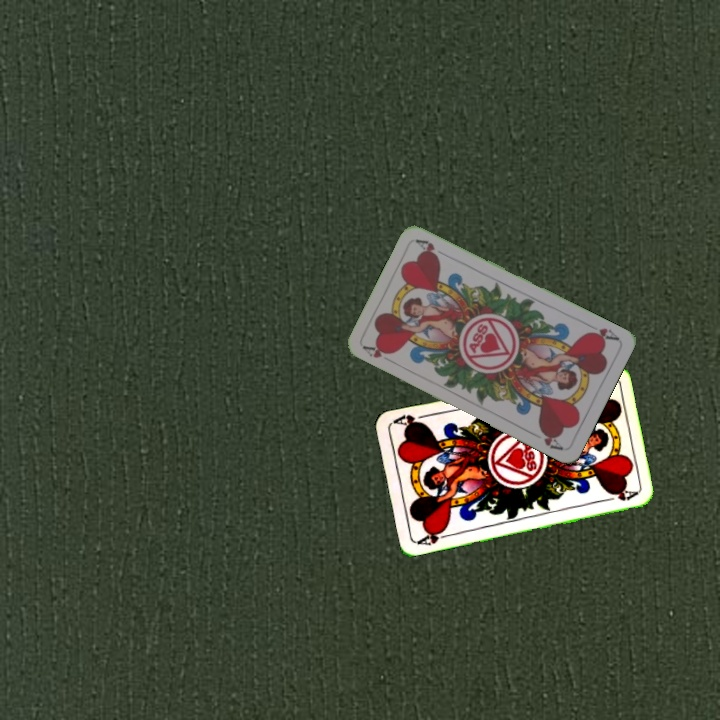HA: (583, 319, 621, 344), (360, 342, 398, 367), (414, 525, 454, 548)
